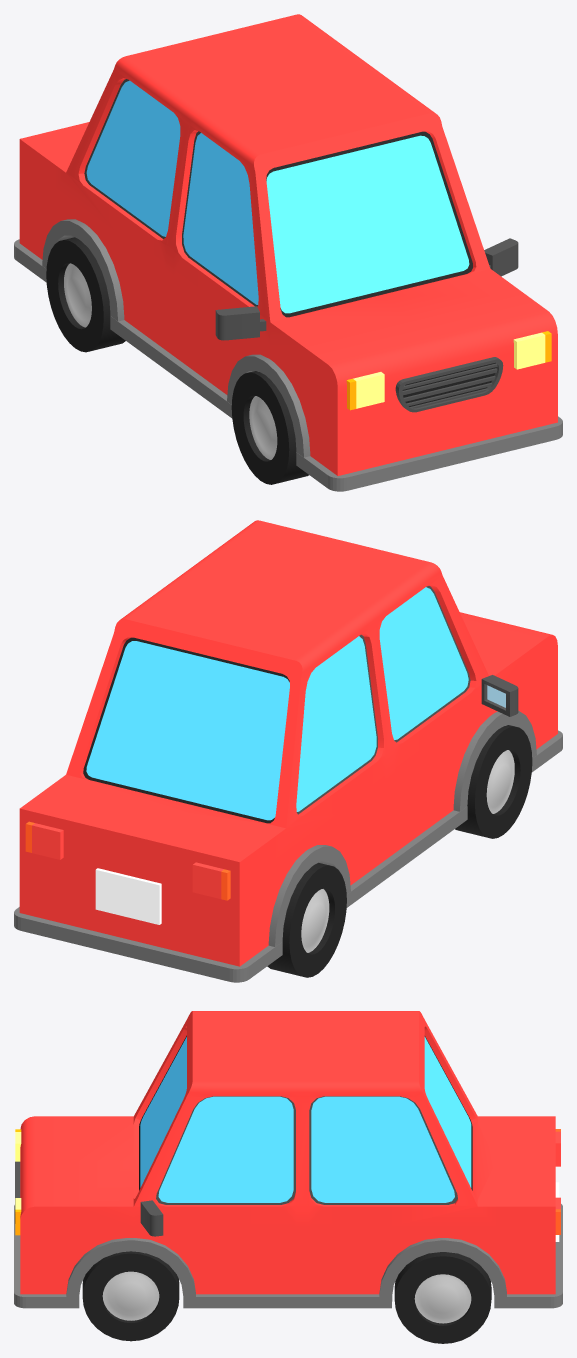
File: oncoming_automobile.gltf
3 views of the same model, one above another, from view 1: azimuth 30°, elevation 25°; view 2: azimuth 150°, elevation 25°; view 3: azimuth 270°, elevation 25° (orthographic). The views are drawn at different scales.
Visible parts, largest first — view 1: Cube.679; view 2: Cube.679; view 3: Cube.679.
Boxes of the visible parts, left/top/right/bottom form: Cube.679: left=14, top=14, right=562, bottom=491; Cube.679: left=14, top=520, right=562, bottom=982; Cube.679: left=14, top=1011, right=562, bottom=1343.
Size of the model in its own units: 1.82 by 1.71 by 3.44.
Materials: 1 (1 with a texture image).
